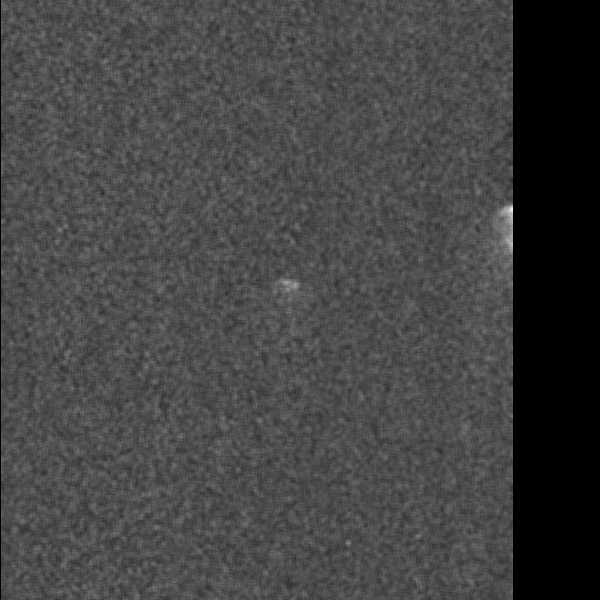spark: (1, 335, 28, 391), (469, 506, 503, 550), (278, 187, 311, 221), (247, 579, 274, 597)
